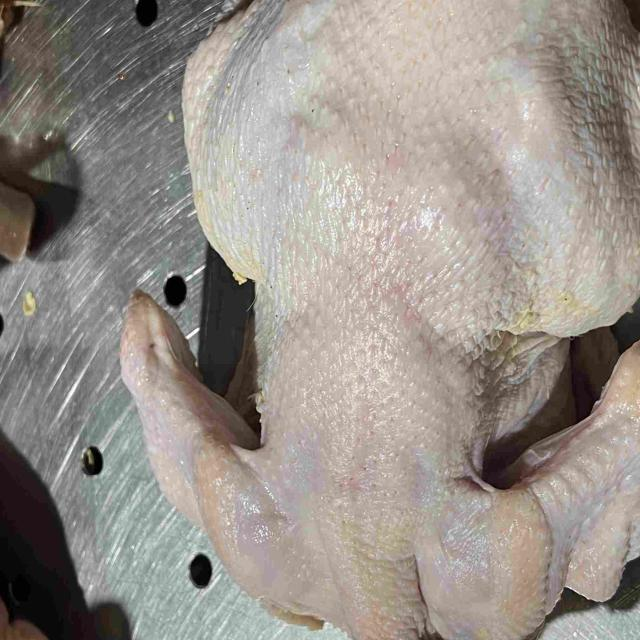back: (269, 0, 586, 450)
leg: (182, 0, 291, 127)
neck: (326, 488, 437, 640)
wing: (415, 341, 640, 637), (118, 287, 313, 618)
